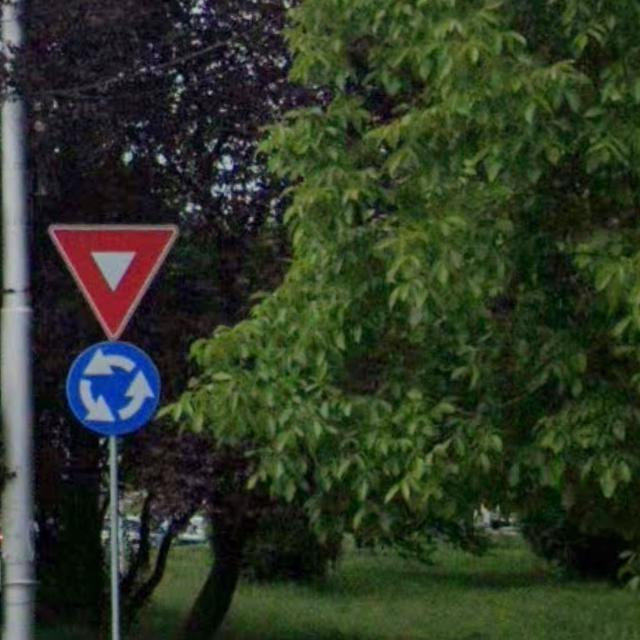prio_give_way: (42, 221, 177, 342)
